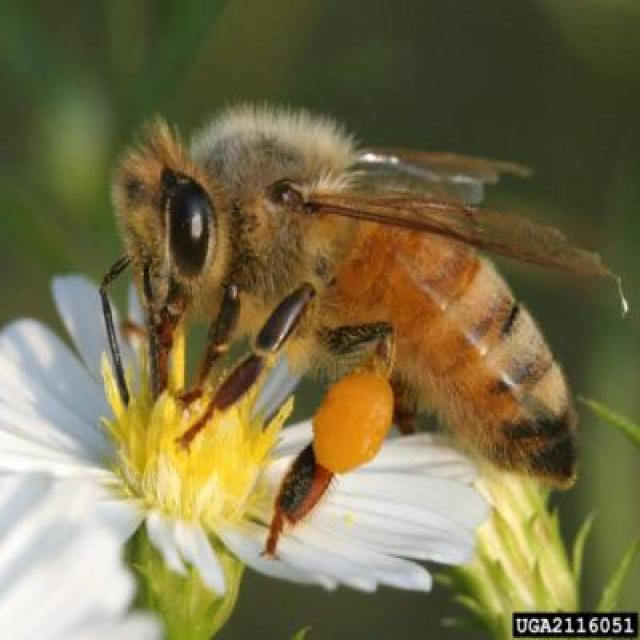antennae: (100, 248, 138, 409), (136, 255, 163, 402)
body: (112, 114, 580, 492)
insect: (95, 100, 629, 566)
legs: (260, 316, 400, 553), (172, 282, 317, 450), (176, 279, 246, 403), (383, 370, 417, 447)
mouthpart: (149, 283, 192, 400)
wings: (269, 168, 624, 284), (332, 143, 540, 196)
